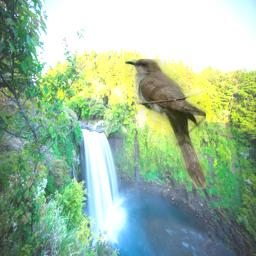Cuckoo: (125, 59, 206, 189)
